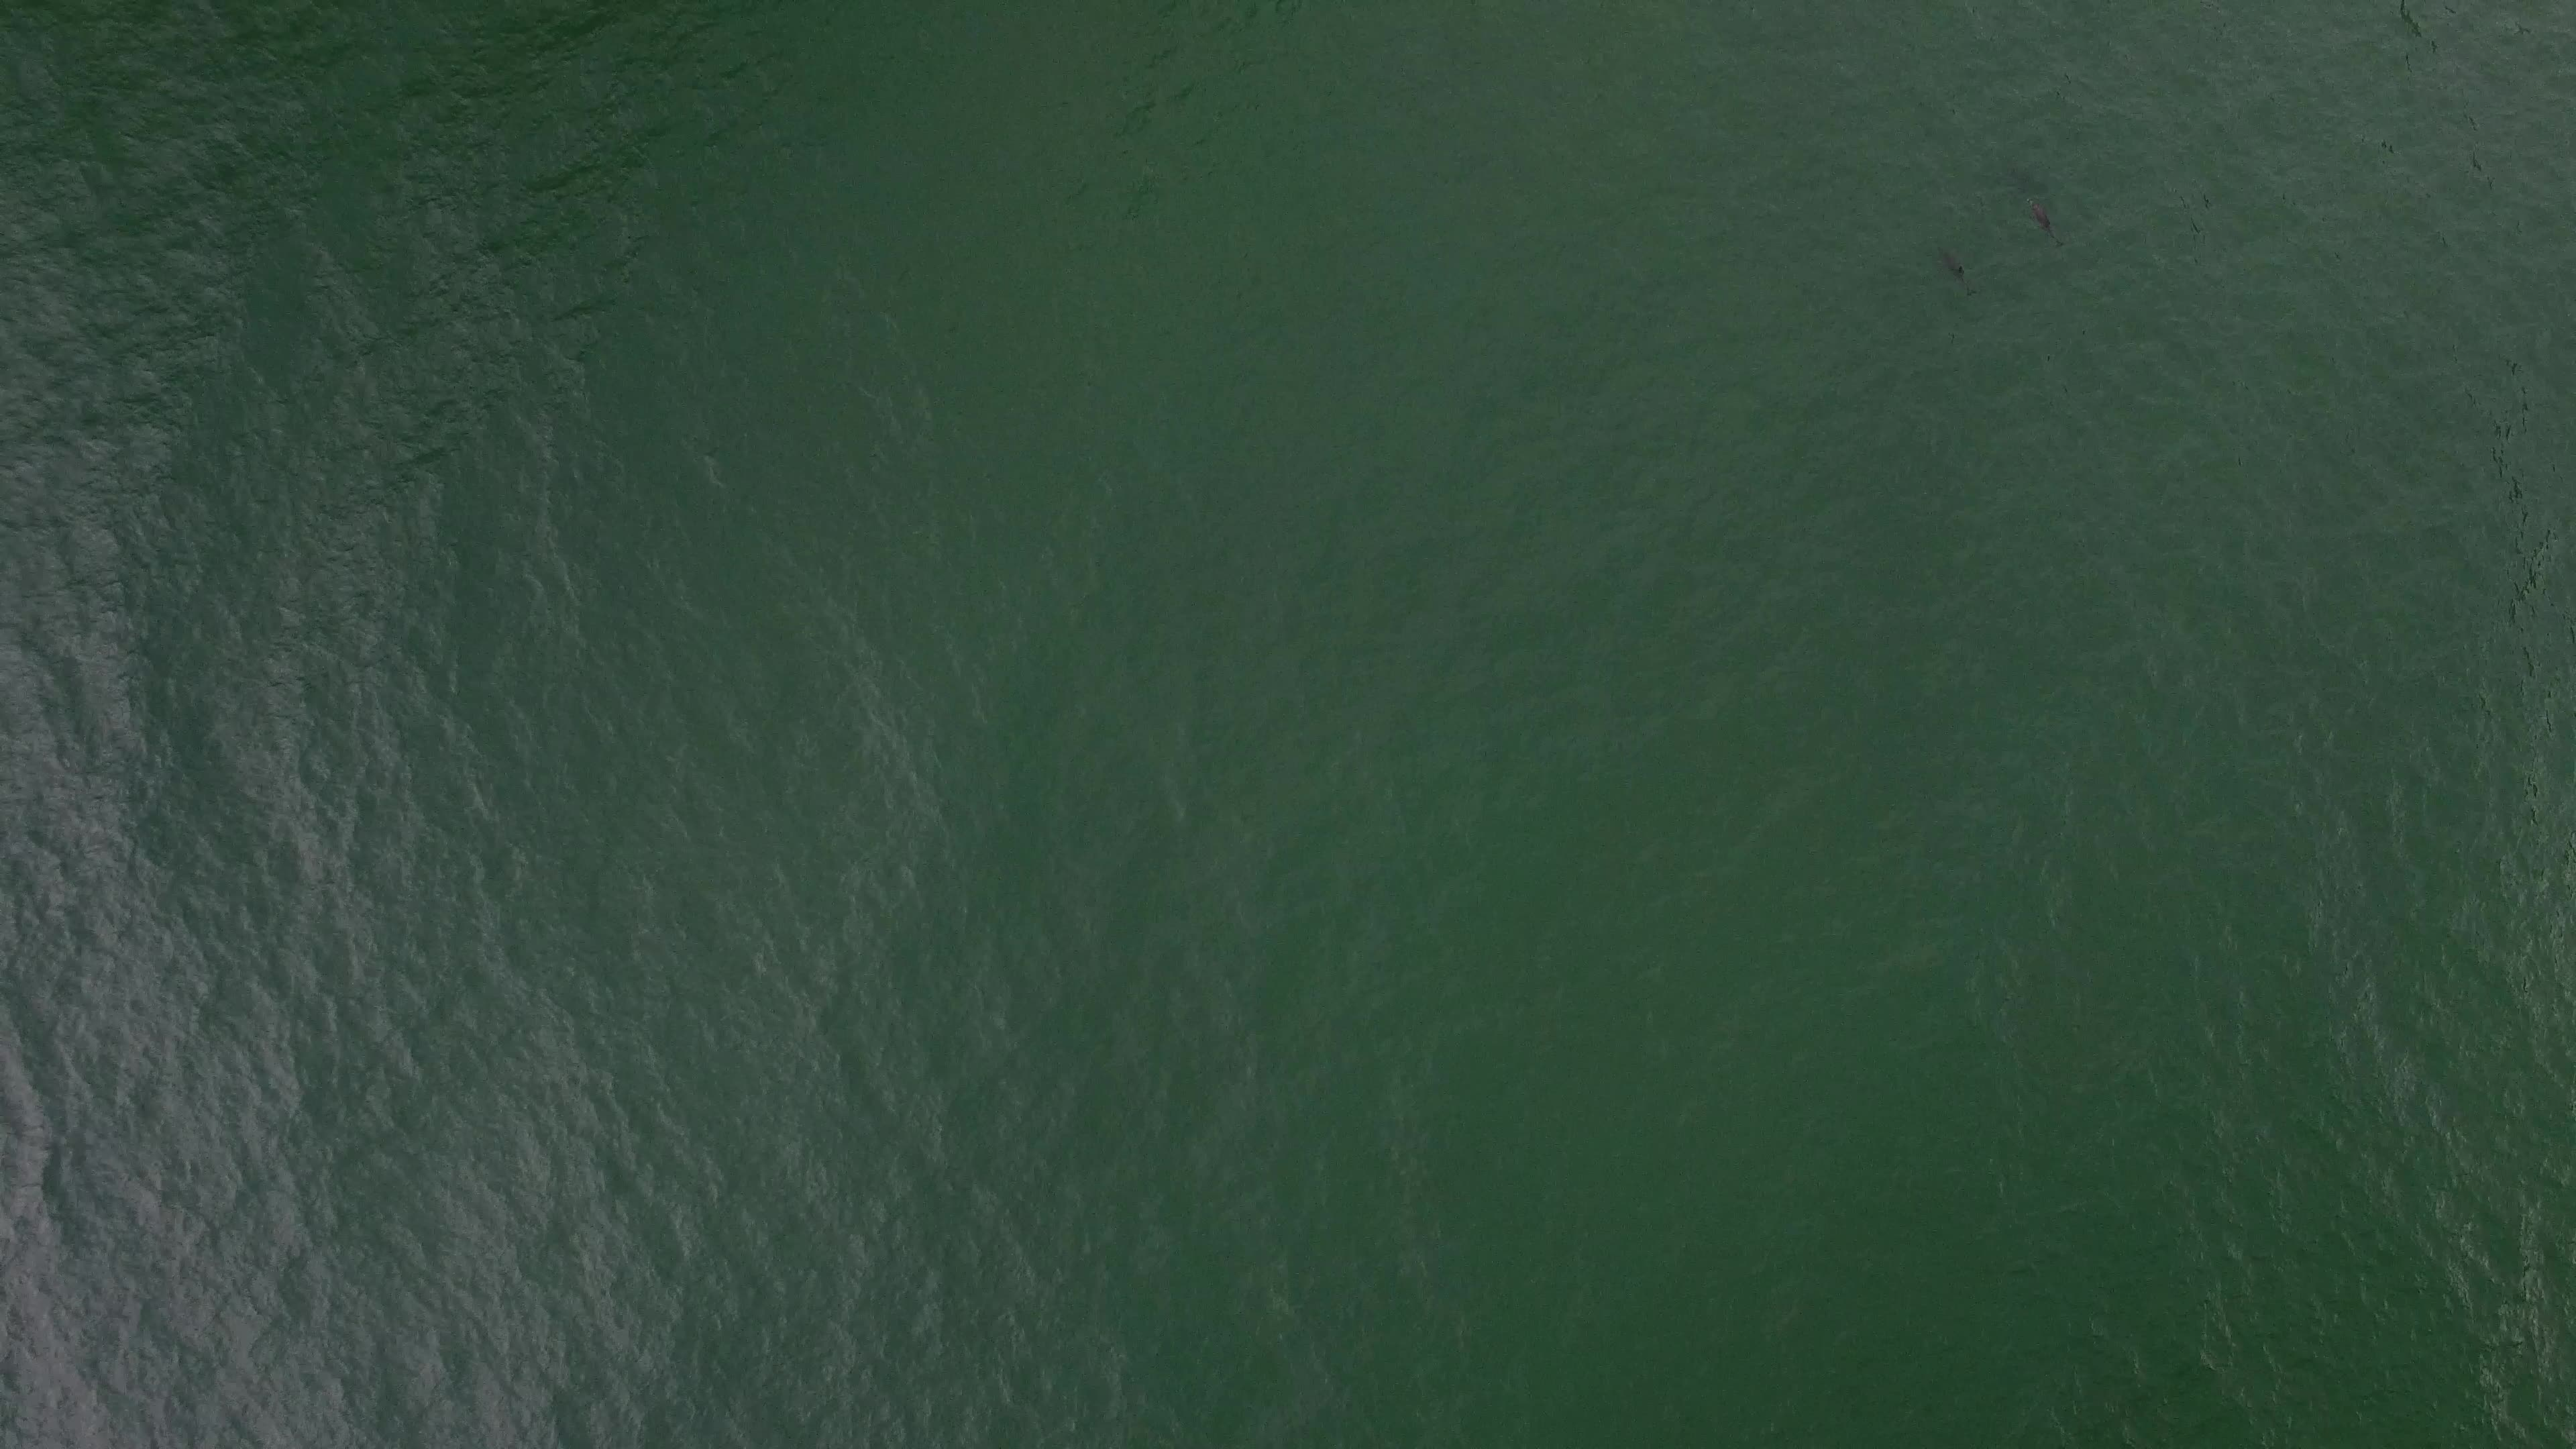dolphin: (1913, 223, 1996, 306), (1997, 180, 2077, 258)
